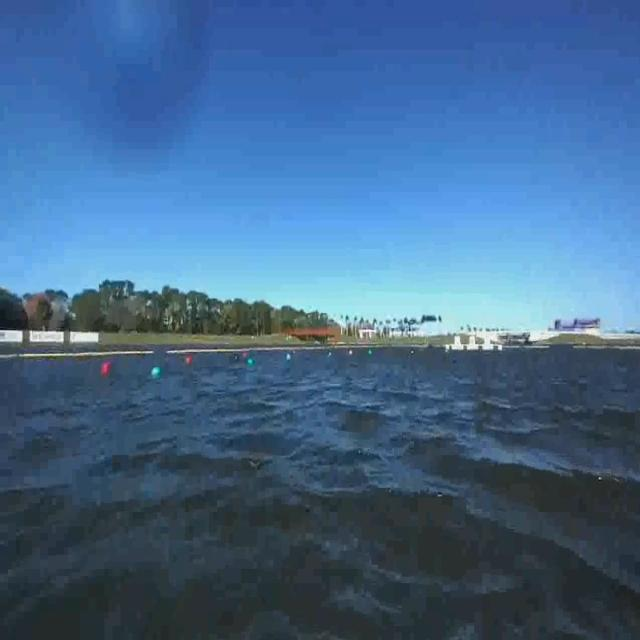green-buoy: (148, 370, 166, 382)
red-buoy: (102, 365, 114, 378)
